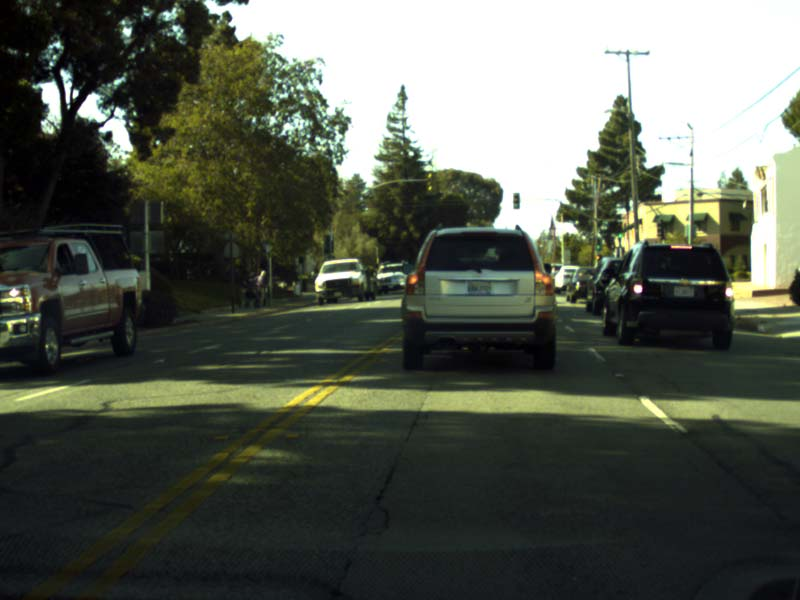Green: (513, 193, 519, 208), (596, 239, 600, 249), (618, 227, 621, 238)
